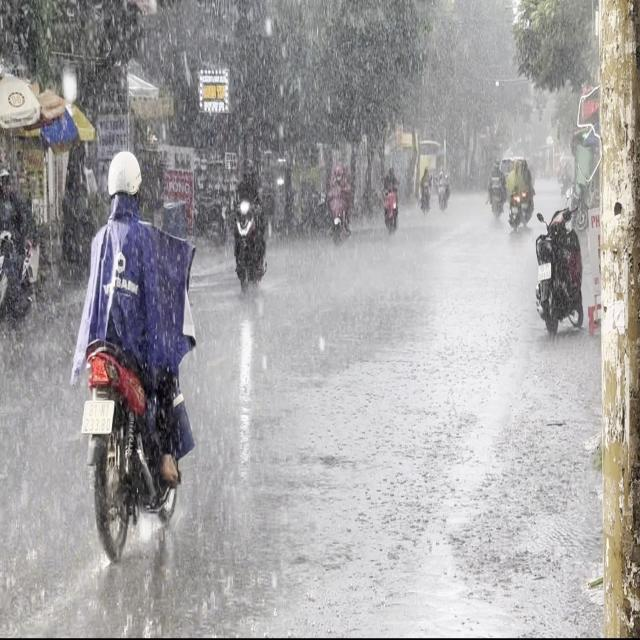helmet: (106, 148, 142, 212)
licenseplate: (68, 144, 200, 576)
nohelmet: (82, 399, 113, 433)
